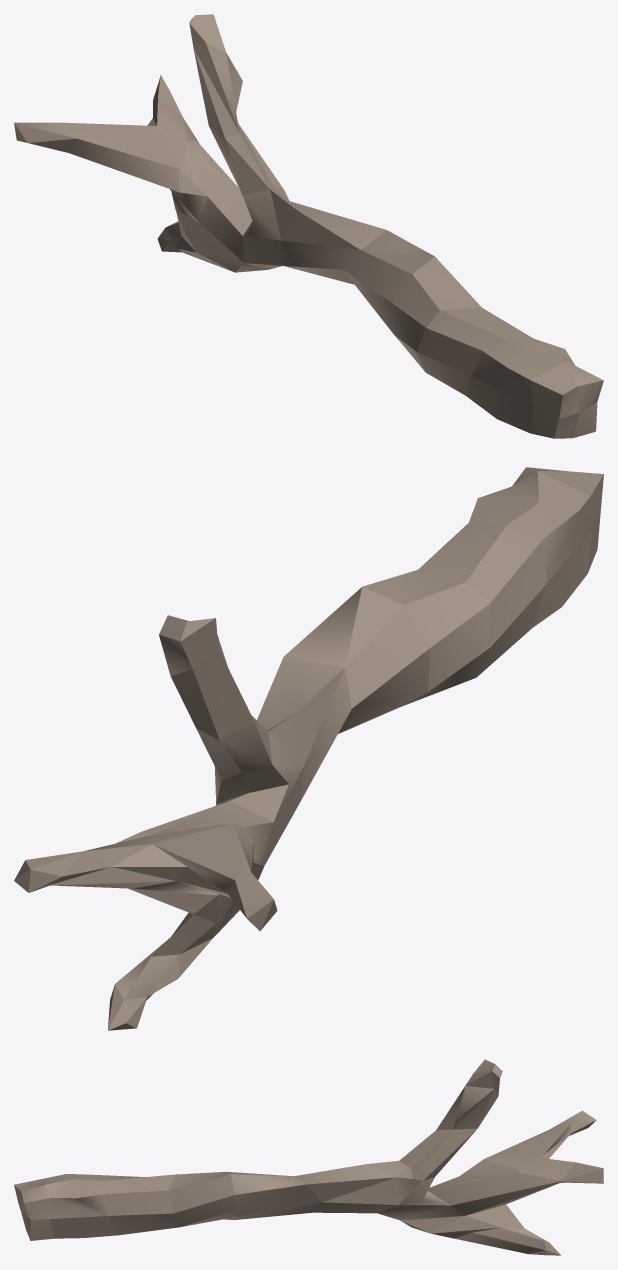
The model's file is fallenTree3.fbx.
3 renders of one model, top to bottom at view 1: azimuth 30°, elevation 25°; view 2: azimuth 150°, elevation 25°; view 3: azimuth 270°, elevation 25°, orthographic. The views are drawn at different scales.
Parts seen in each view (by area): view 1: fallenTree3; view 2: fallenTree3; view 3: fallenTree3.
Boxes of the visible parts, x1,y1,x2,y2 form: fallenTree3: [14, 14, 603, 438]; fallenTree3: [14, 467, 603, 1030]; fallenTree3: [14, 1059, 603, 1255].
Bounding box in the file's own units: 3.18 × 3.86 × 10.82.
